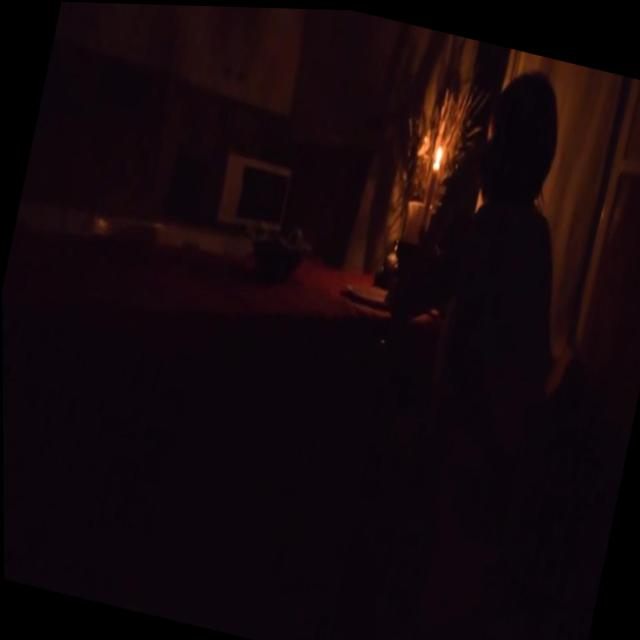fire: (431, 140, 445, 164)
